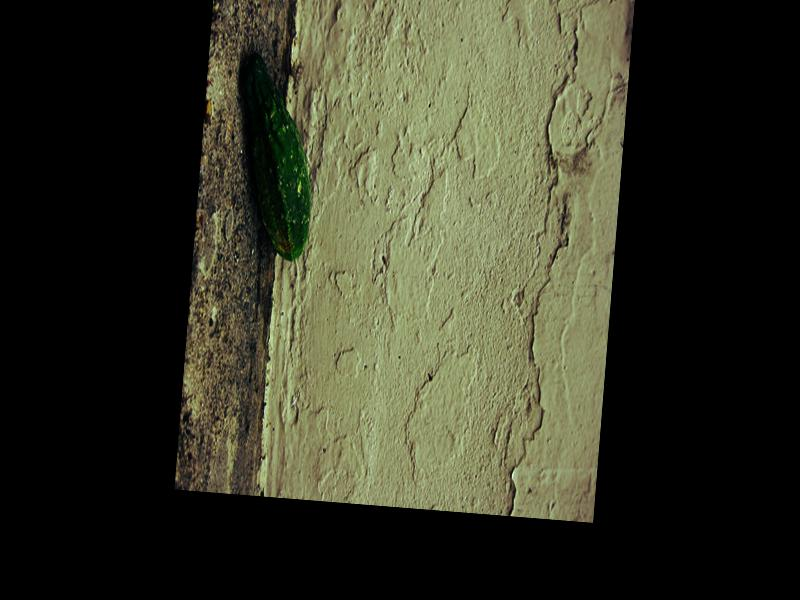Cucumber: (228, 54, 322, 262)
